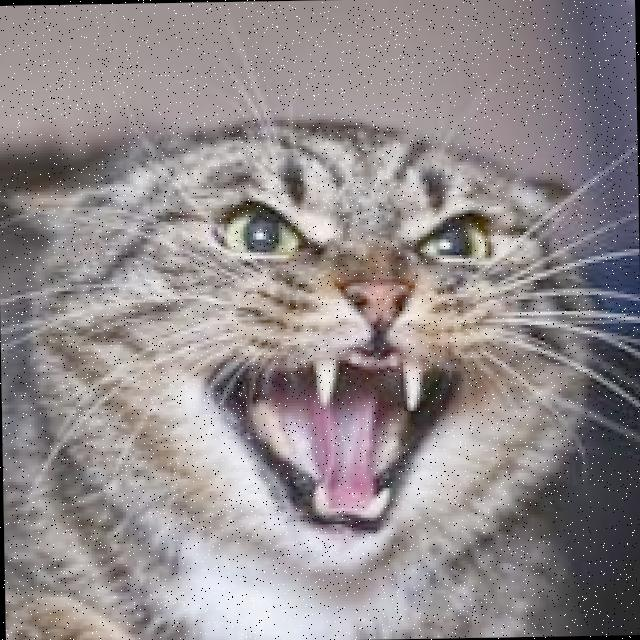Angry: (138, 158, 530, 577)
